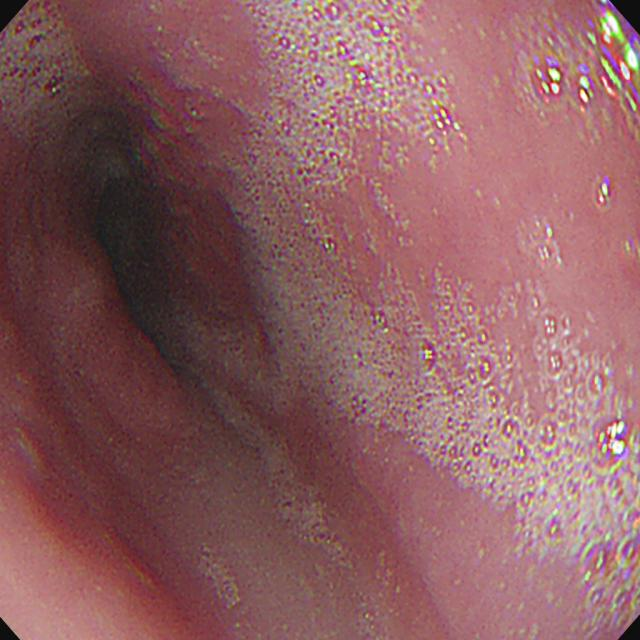E: (97, 183, 177, 345)
T: (365, 296, 640, 502), (248, 2, 464, 181), (2, 2, 87, 132)
U: (579, 2, 640, 116), (596, 421, 630, 459), (534, 59, 562, 99)
